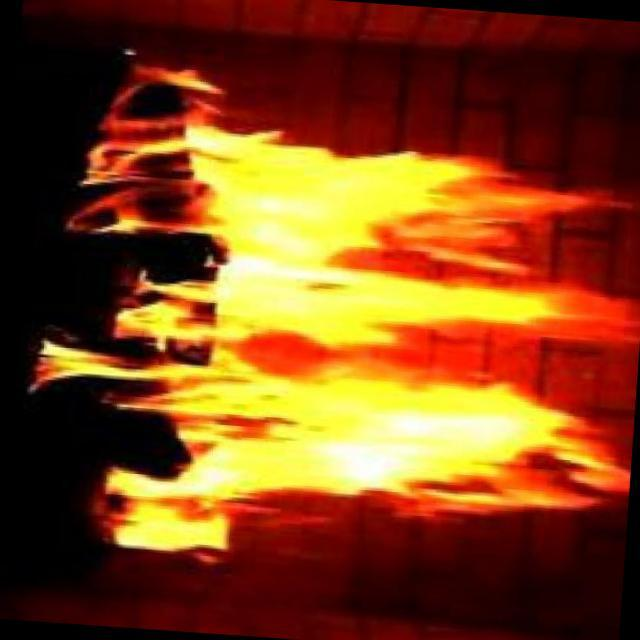Fire: (74, 128, 573, 544)
